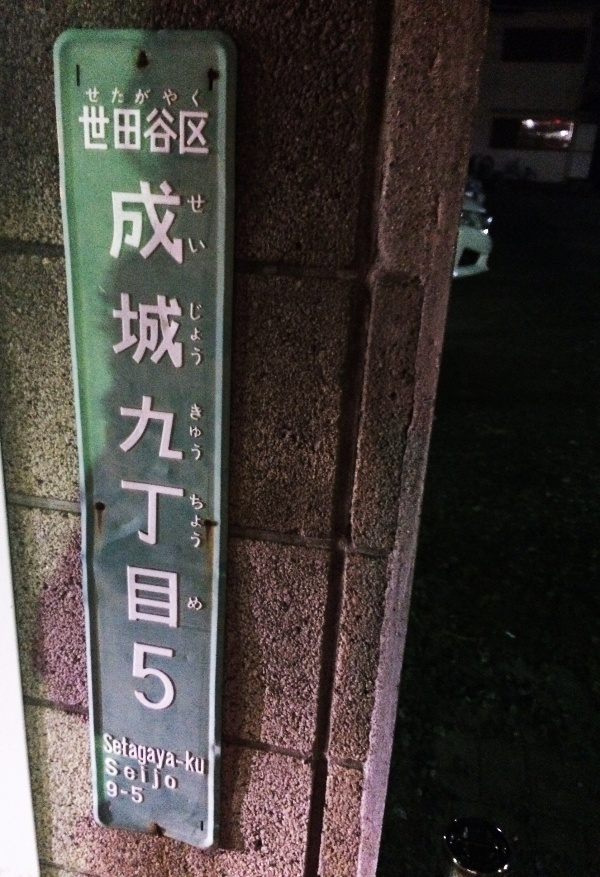text: (113, 178, 128, 713), (129, 178, 144, 713), (145, 178, 160, 713), (161, 178, 176, 713), (177, 178, 185, 713), (107, 178, 112, 713), (193, 106, 209, 157), (113, 732, 128, 785), (129, 732, 144, 785), (145, 732, 160, 785), (161, 732, 176, 785), (177, 732, 192, 785), (81, 106, 96, 157), (97, 106, 112, 157), (113, 106, 128, 157), (129, 106, 144, 157), (145, 106, 160, 157), (161, 106, 176, 157), (177, 106, 192, 157), (193, 300, 203, 368), (161, 756, 177, 794), (193, 493, 204, 548), (193, 402, 203, 462), (193, 732, 204, 785), (113, 756, 128, 794), (129, 756, 144, 794), (145, 756, 160, 794), (103, 732, 112, 785), (113, 781, 128, 806), (129, 781, 144, 806), (97, 86, 112, 110), (113, 86, 128, 110), (129, 86, 144, 110), (145, 86, 160, 110), (161, 86, 176, 110), (177, 86, 192, 110), (193, 194, 206, 214), (86, 86, 96, 110), (193, 238, 207, 255), (106, 756, 112, 794), (193, 593, 202, 612), (193, 86, 200, 110), (190, 300, 192, 368), (107, 781, 112, 806), (190, 402, 192, 462), (190, 493, 192, 548), (187, 194, 192, 214), (188, 593, 192, 612), (188, 238, 192, 255), (79, 106, 80, 157)
